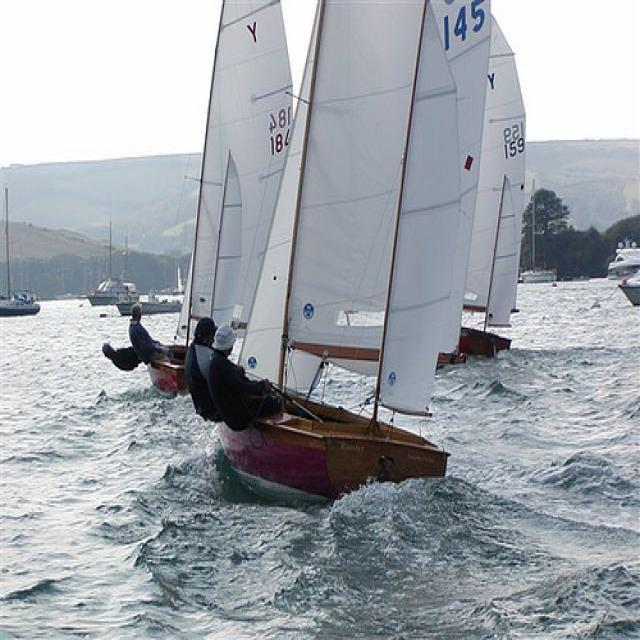Ship: (183, 1, 526, 519)
